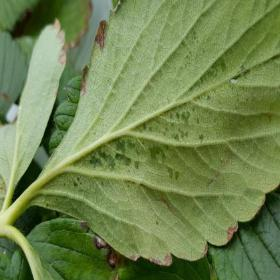Angular Leafspot: (62, 26, 261, 192), (130, 223, 240, 266)
